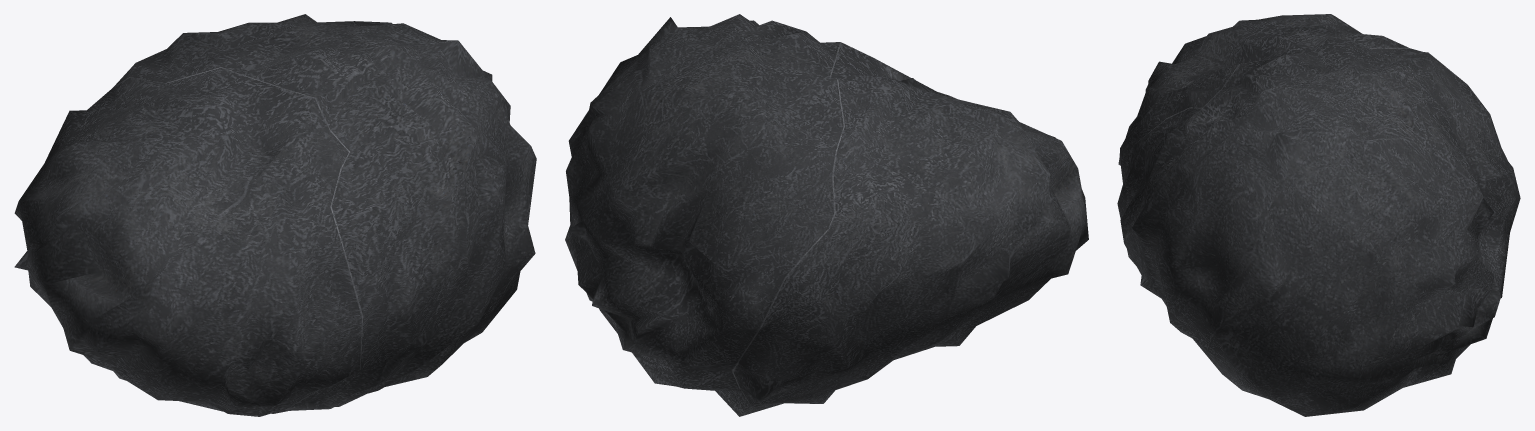
Rendered from asteroid.gltf.
The picture shows the model from 3 angles, left to right: view 1: azimuth 30°, elevation 25°; view 2: azimuth 150°, elevation 25°; view 3: azimuth 270°, elevation 25°; orthographic projection. The views are drawn at different scales.
Visible parts, largest first — view 1: Object_2; view 2: Object_2; view 3: Object_2.
Part boxes in pixels (<box>): Object_2: <box>14,14,536,416</box>; Object_2: <box>565,14,1088,416</box>; Object_2: <box>1117,14,1520,416</box>.
Bounding box in the file's own units: 1.84 × 1.3 × 1.43.
1 material, 1 textured.
